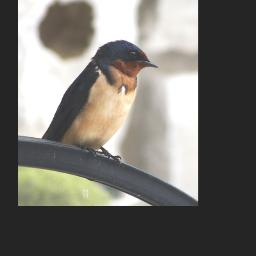Swallow: (39, 38, 159, 166)
